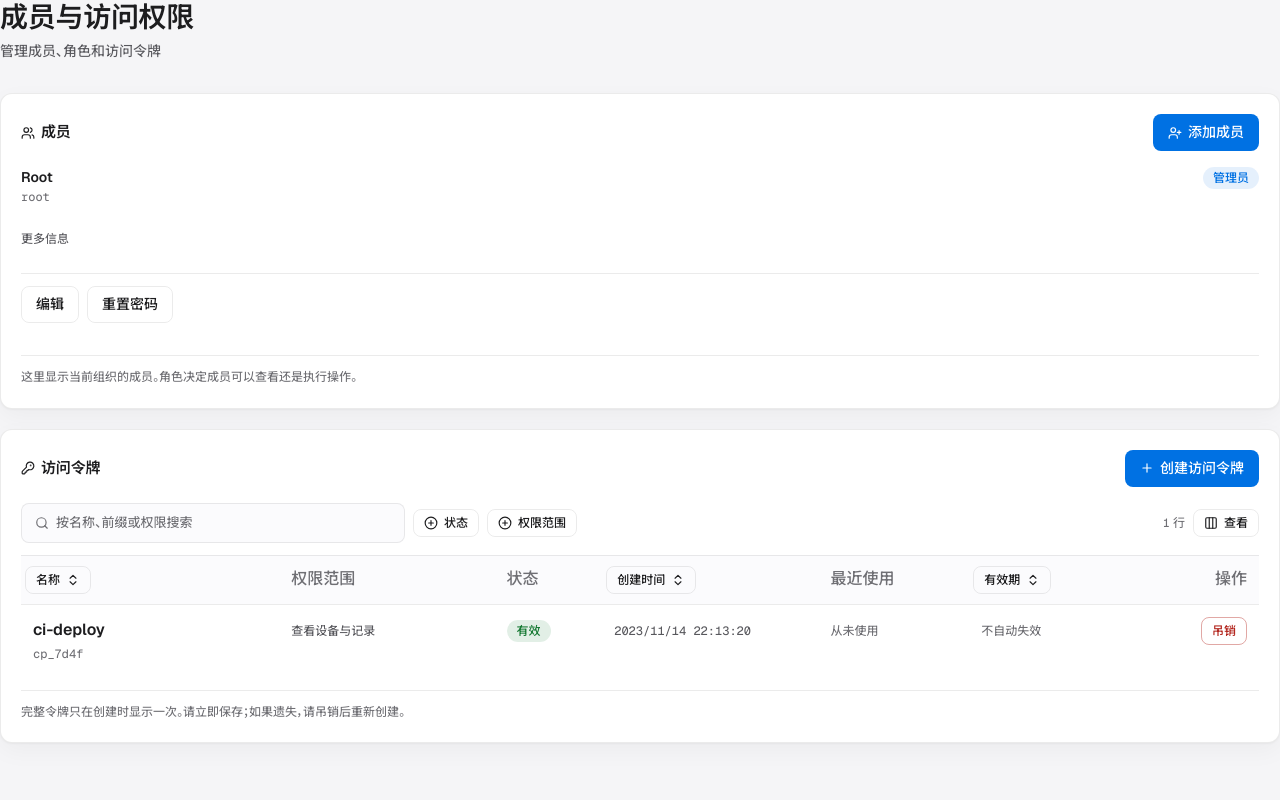
it: TestCreateTokenSecretShownOnce › 关闭面板后 DOM 里再也找不到明文，也不能从列表恢复
Click the button "创建访问令牌" at coordinates (1192, 468), box [1125,450,1259,486]
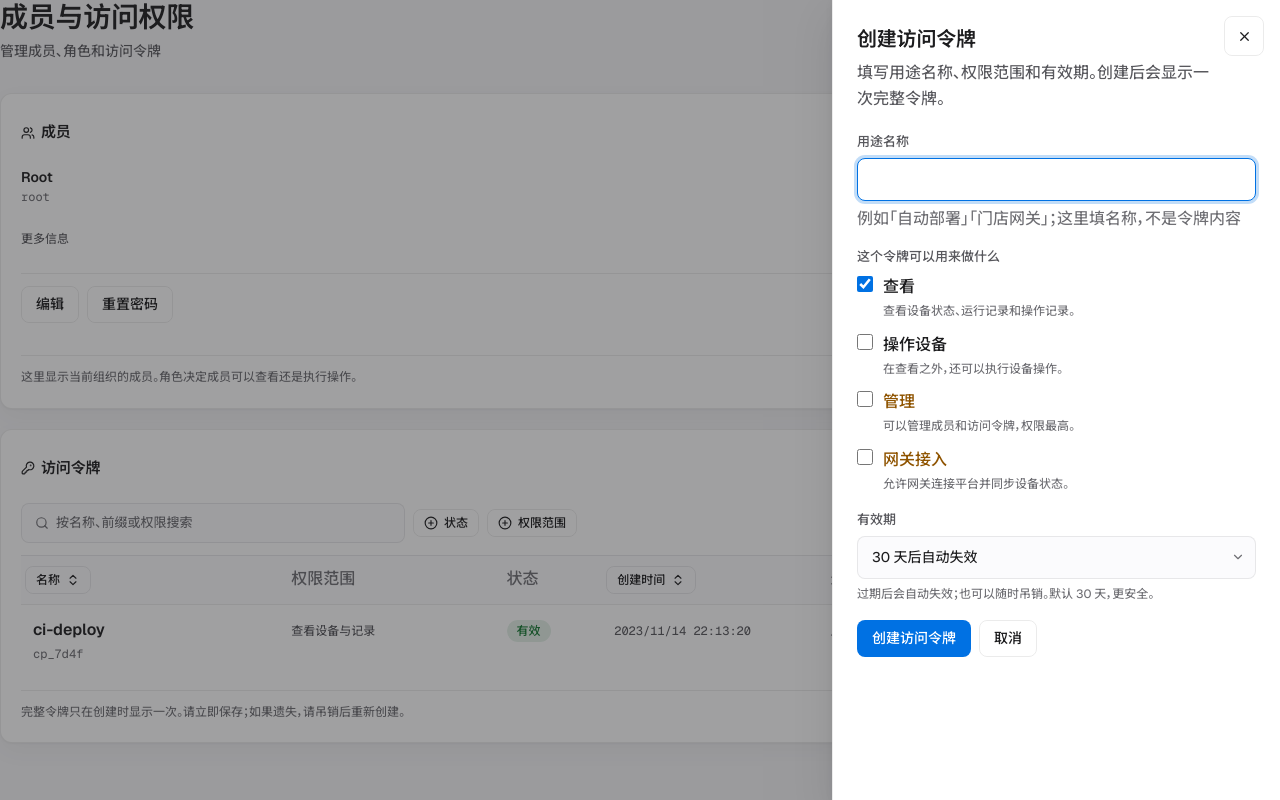
Type "ci-deploy" into the field labelled "用途名称" at coordinates (1056, 179), box [857,158,1256,200]
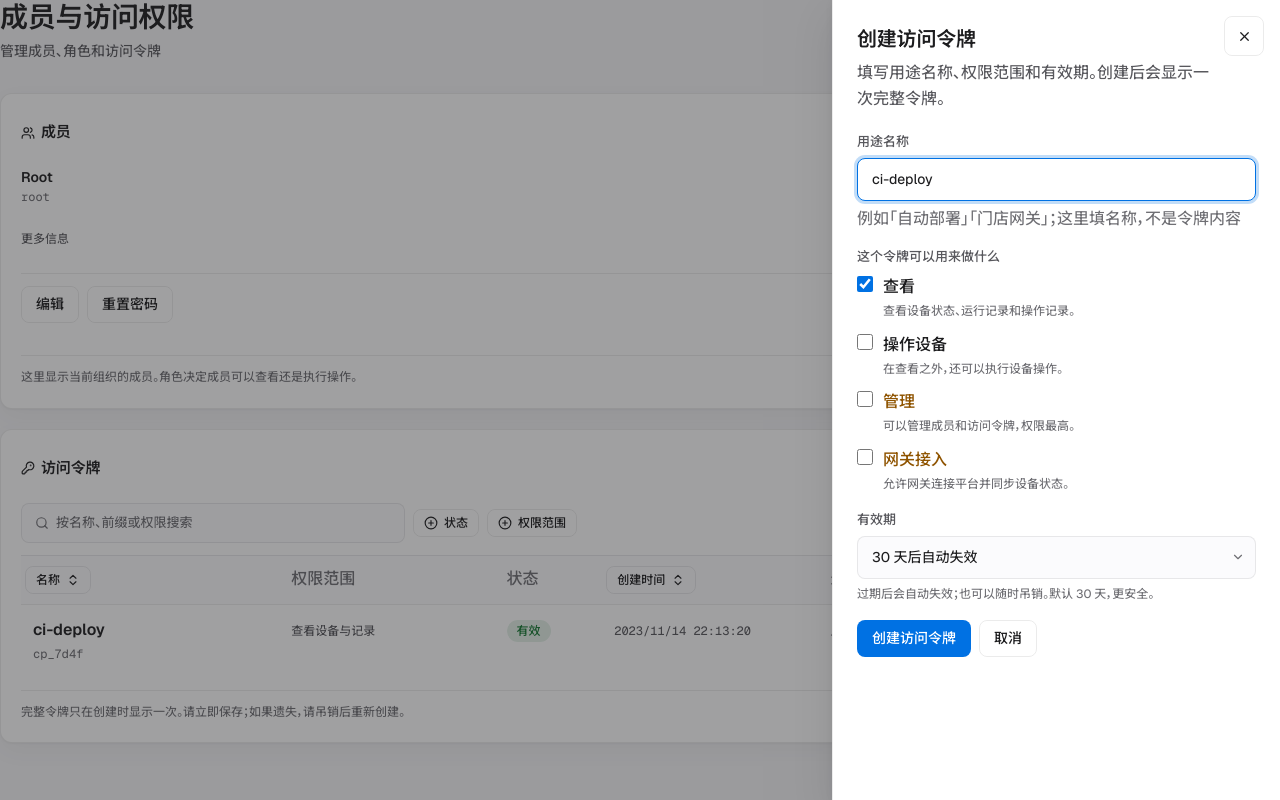
Click the button "创建访问令牌" at coordinates (914, 638), box [857,620,971,657]
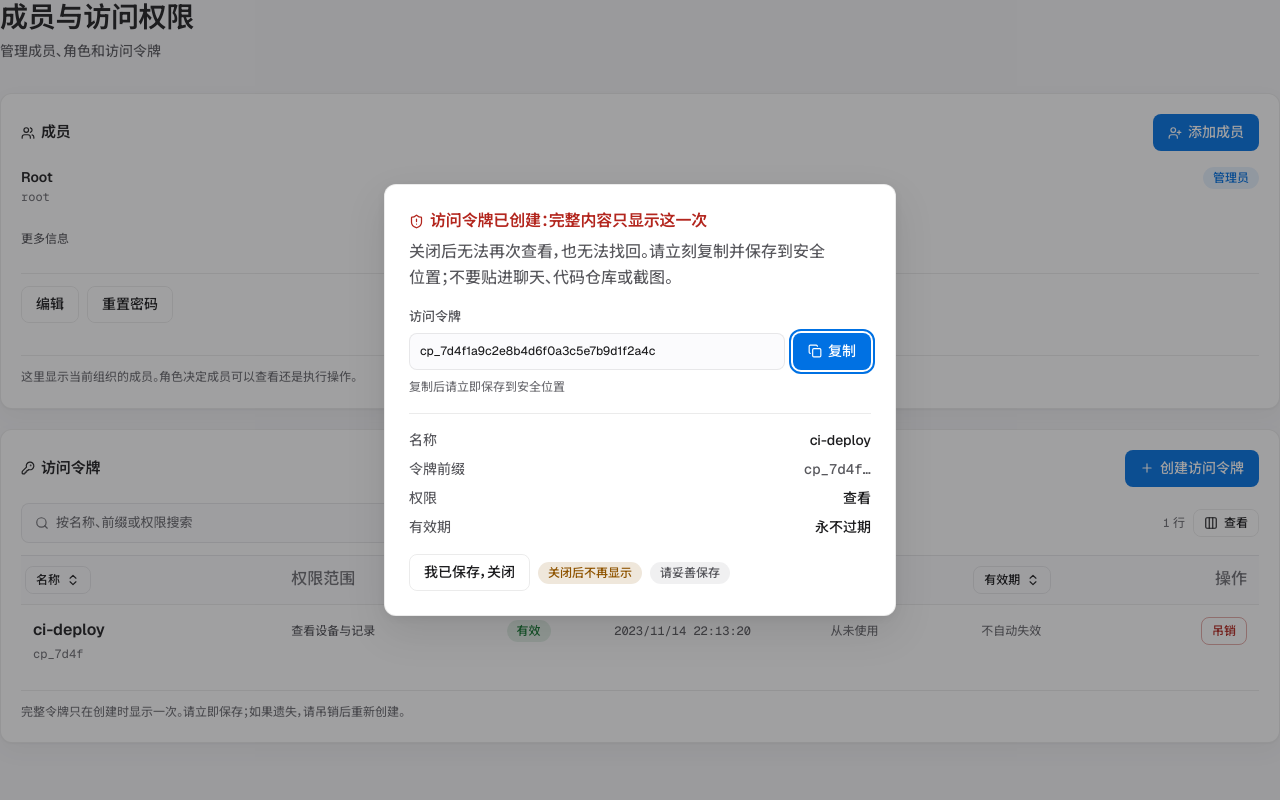
Expected: the dialog is shown, [384,184,896,616]
Click the button with aria-label "我已保存，关闭访问令牌" at coordinates (470, 572), box [409,554,530,591]
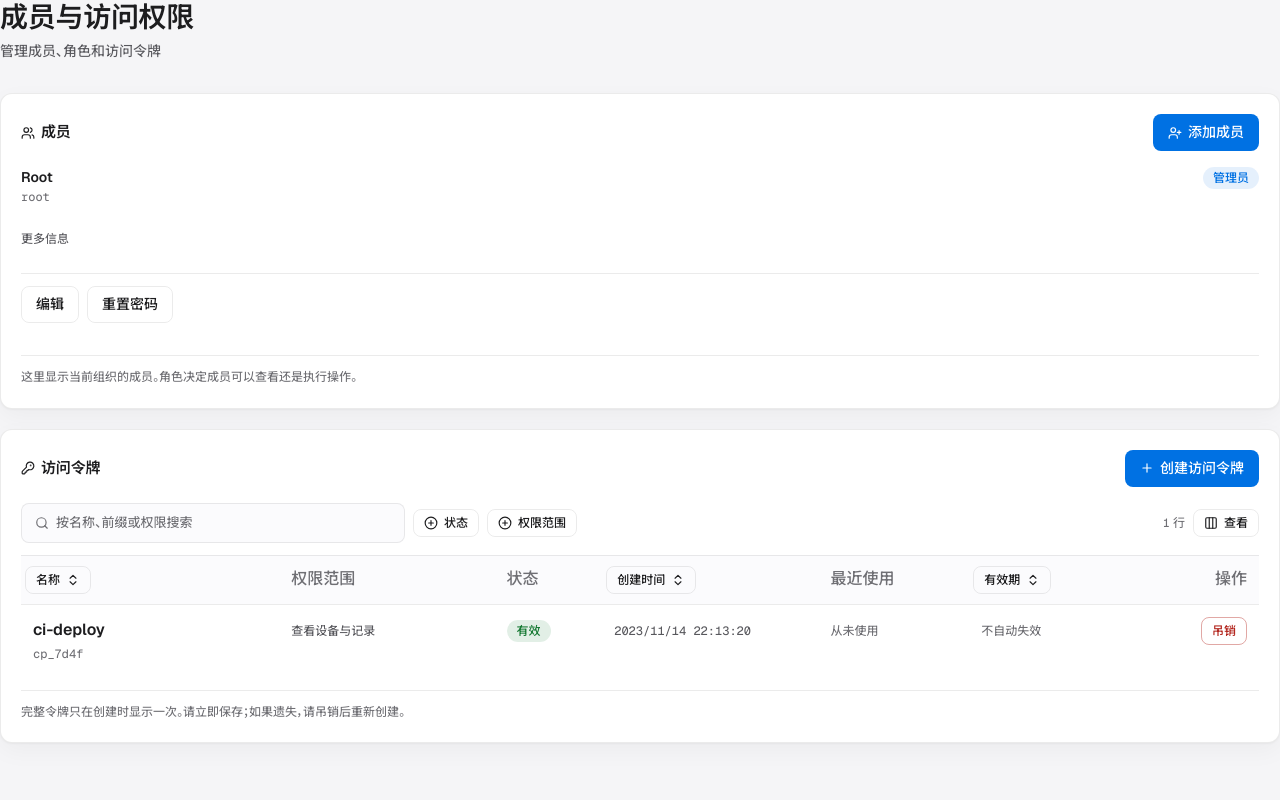
Expected: the text "cp_7d4f1a9c2e8b4d6f0a3c5e7b9d1f2a4c" is not shown
Expected: the dialog is gone
